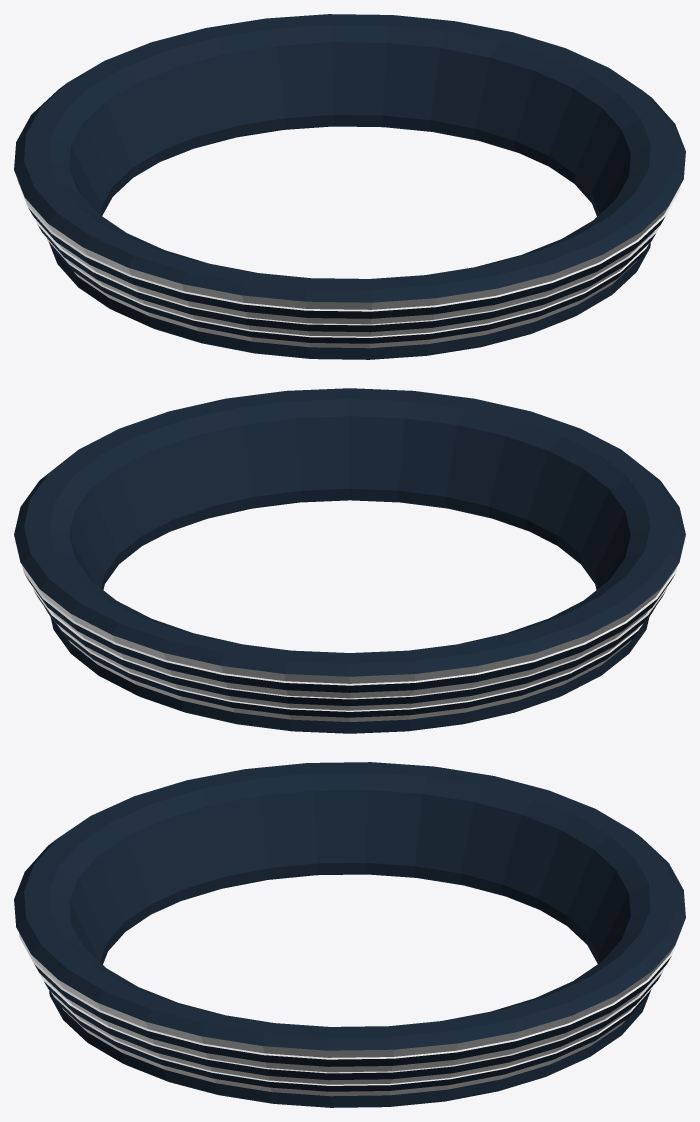
File: Habitat_2_LODGroup.fbx
3 views of the same model, one above another, from view 1: azimuth 30°, elevation 25°; view 2: azimuth 150°, elevation 25°; view 3: azimuth 270°, elevation 25° (orthographic).
Visible parts, largest first — view 1: Habitat 2_LOD0; view 2: Habitat 2_LOD0; view 3: Habitat 2_LOD0.
Boxes of the visible parts, x1,y1,x2,y2 form: Habitat 2_LOD0: (14,14,685,359); Habitat 2_LOD0: (14,388,685,733); Habitat 2_LOD0: (14,762,685,1107).
Size of what is drawn, in the model's own units: 854 by 116 by 854.
